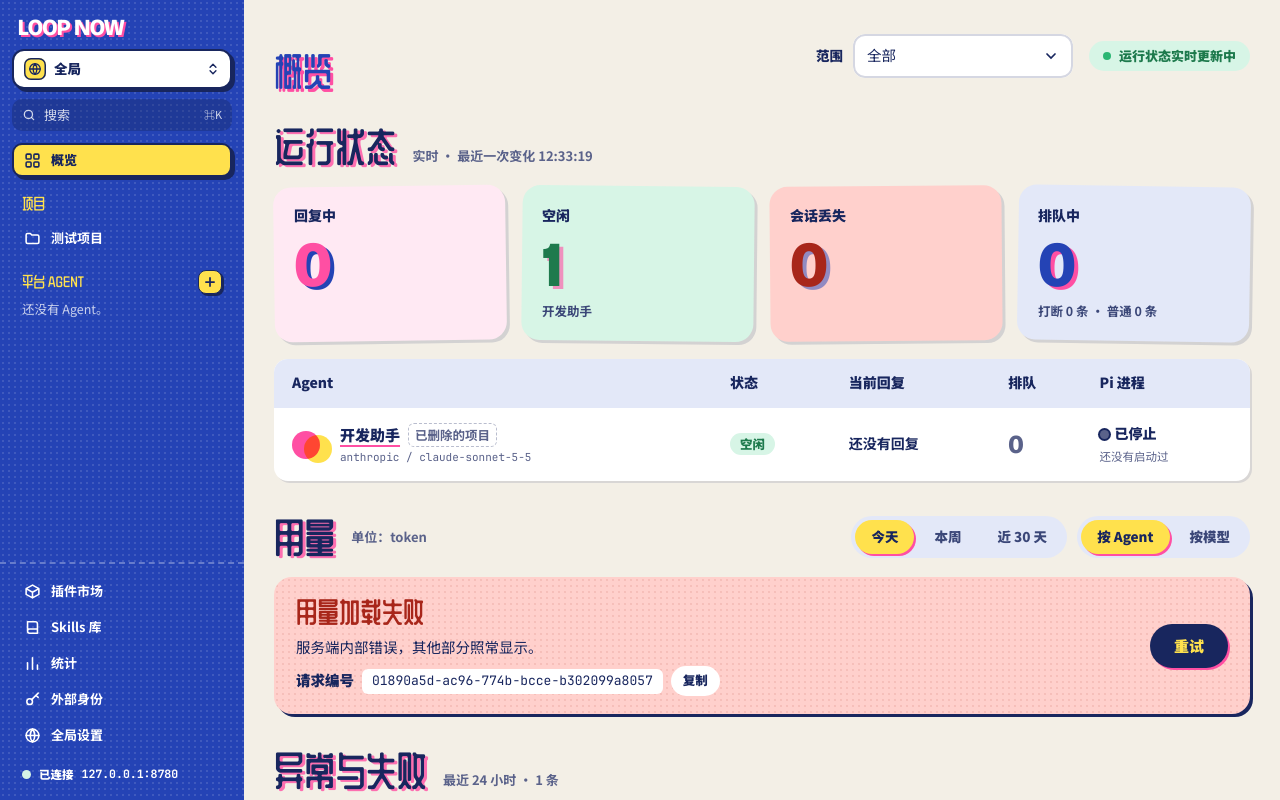
Test case: 概览页的入口 › 只有用量加载失败时，只在用量一块提示错误、请求编号与重试，其余照常显示
Expected: the heading "概览" is shown, [274,52,332,90]
Expected: the message "用量加载失败 服务端内部错误，其他部分照常显示。 请求编号 01890a5d-ac96-774b-bcce-b302099a8057 复制 重试" is shown, [274,577,1250,714]
Click the button "重试": (1189,646) [1150,624,1228,668]
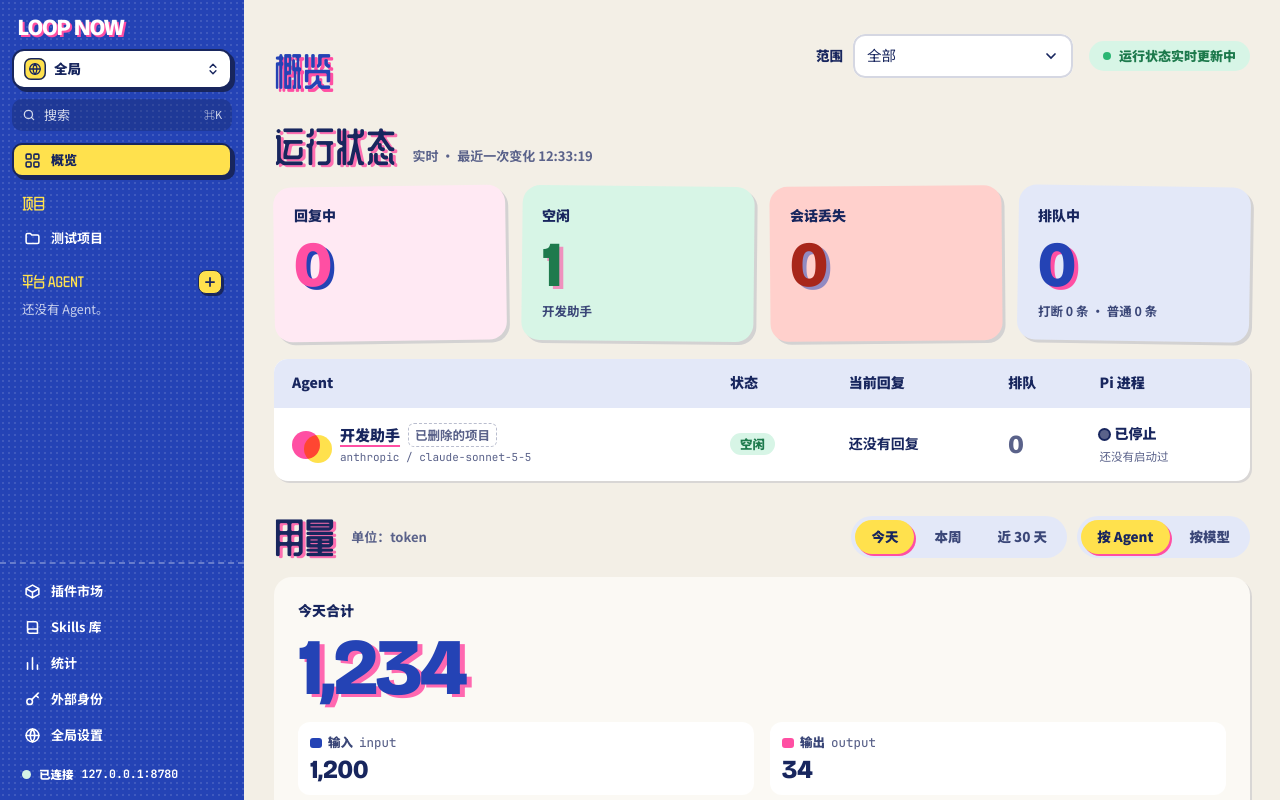
Now the text "1,234" is shown, box [298,620,466,716]
